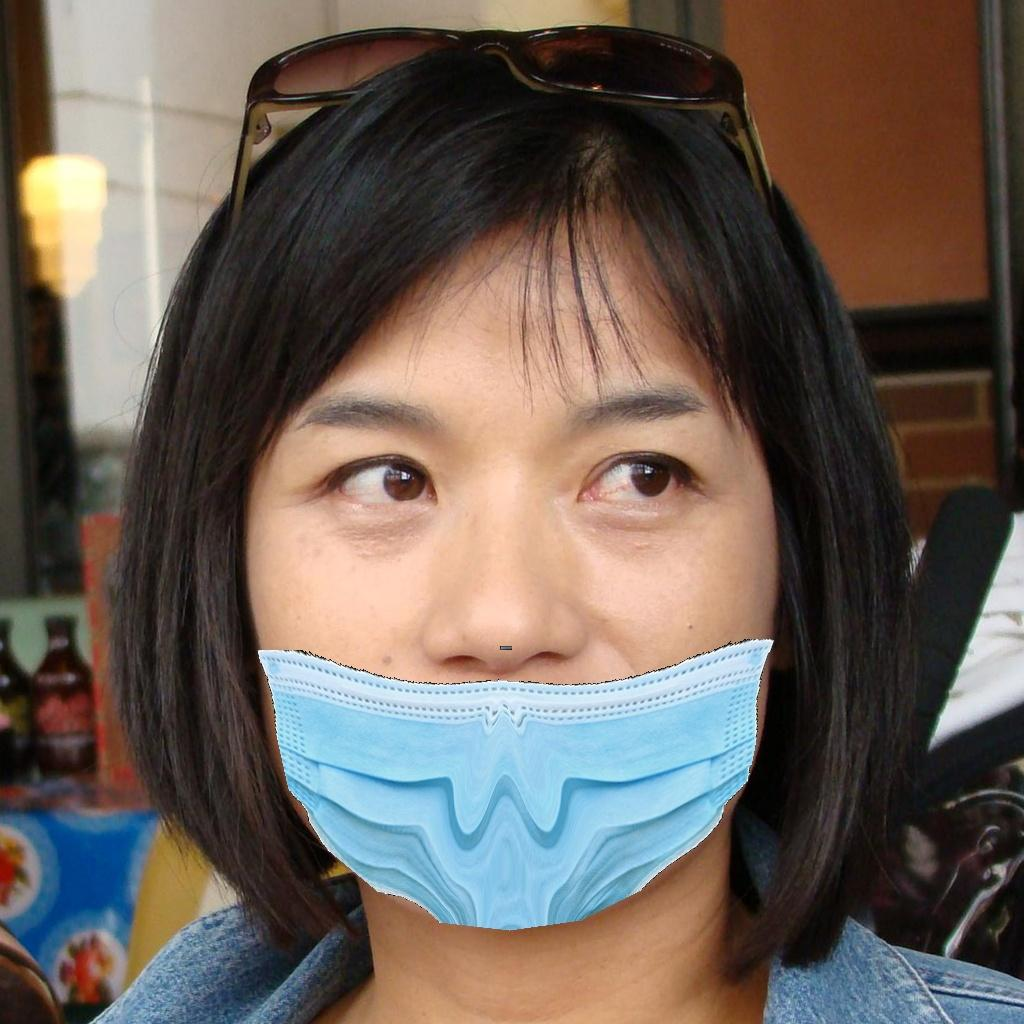Máscara Incorreta: (195, 258, 804, 927)
